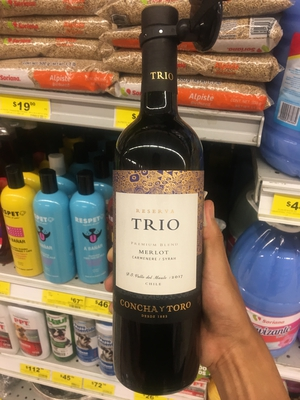trio merlot: (104, 20, 222, 383)
